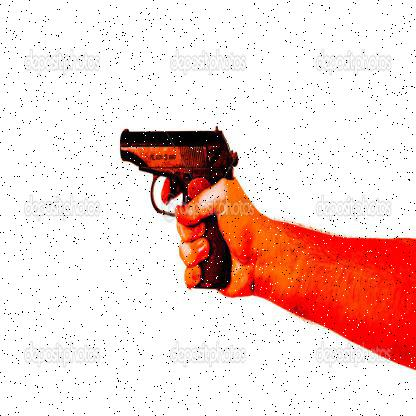pistol: (126, 119, 240, 294)
